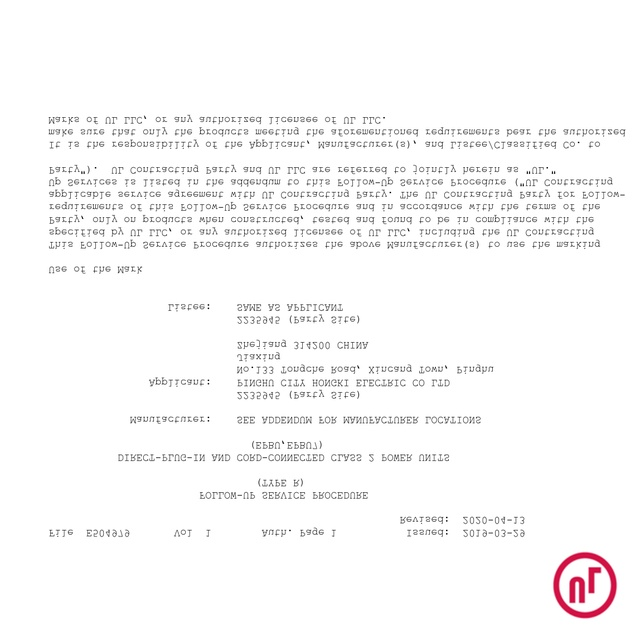ul: (552, 550, 619, 623)
